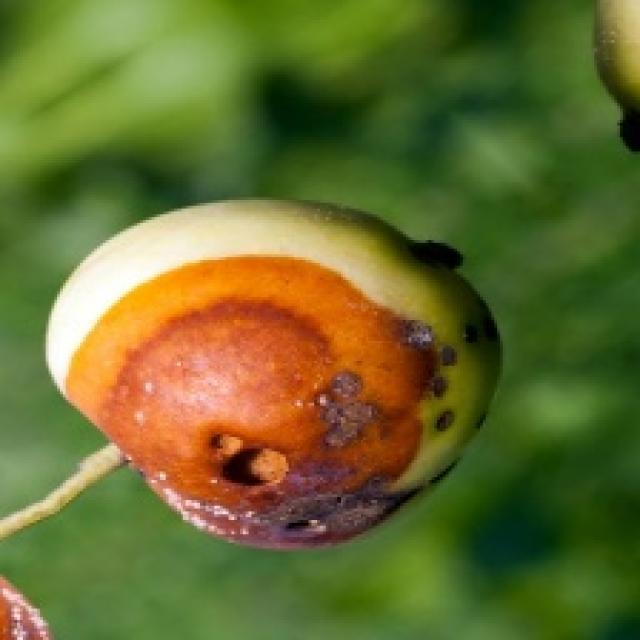rotten_apple: (48, 203, 500, 539)
